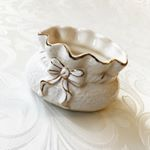cups: (23, 22, 130, 117)
